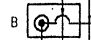Single Phase Tap-Off Unit: (24, 1, 82, 39)
